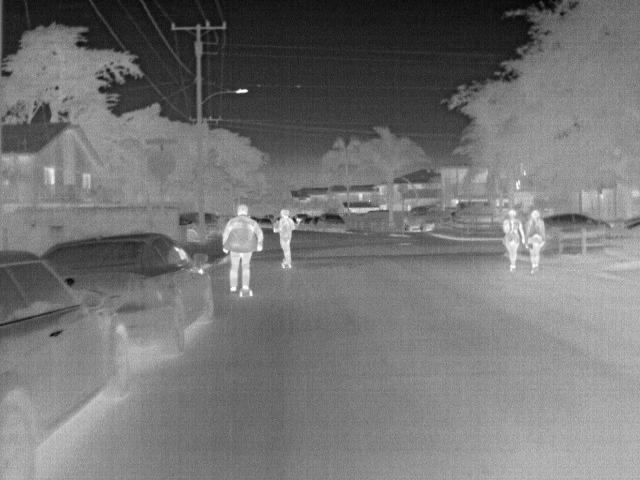car: (1, 246, 131, 478), (41, 232, 219, 354), (542, 212, 613, 236), (403, 206, 456, 234), (452, 198, 501, 219), (317, 214, 348, 233), (300, 218, 316, 230), (311, 216, 323, 230)
person: (220, 204, 264, 294), (272, 207, 298, 267), (502, 207, 525, 271), (524, 207, 545, 268)
